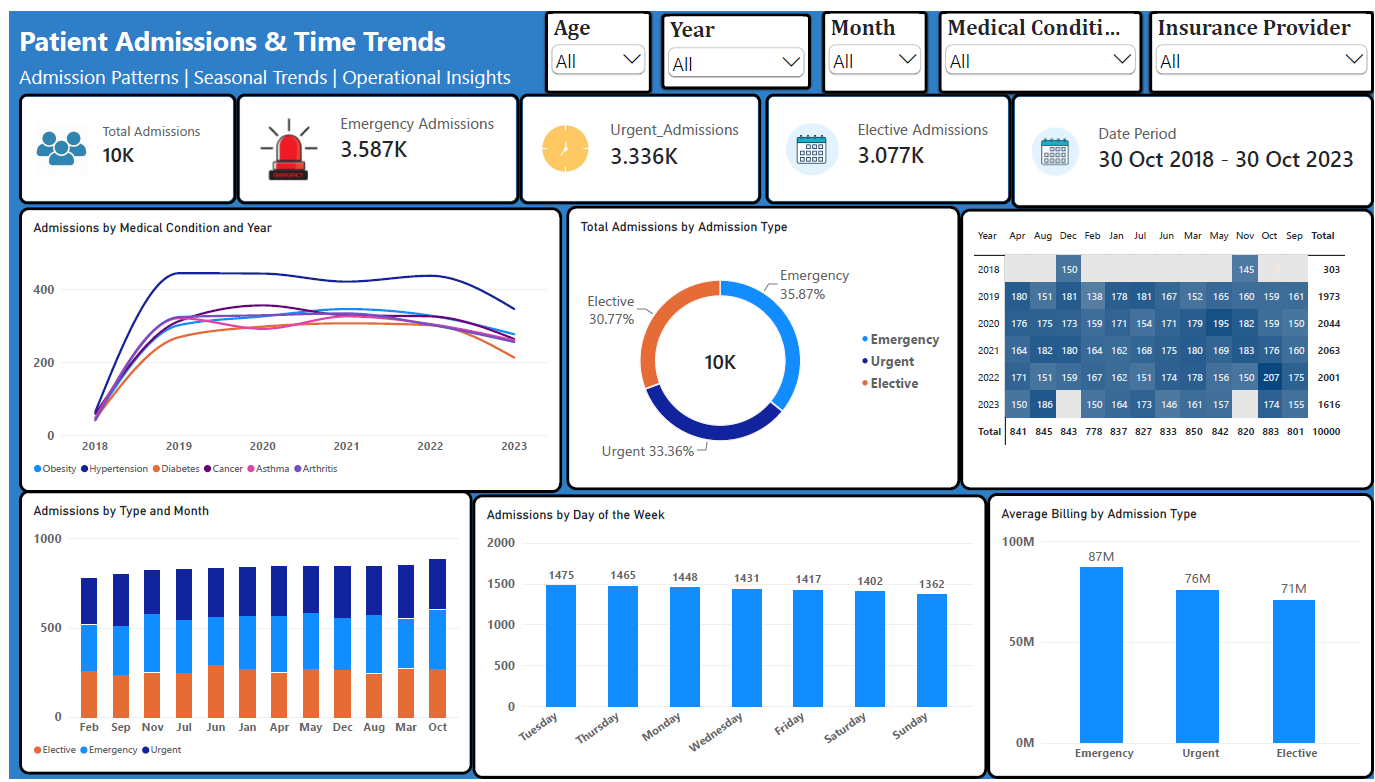

The page's visual inventory and layout, read from the dashboard file:
{"tool":"powerbi","page":{"name":"Patient Admission and Time Trend","canvas":[1920,1080],"ordinal":3},"visuals":[{"type":"cardVisual","fields":{"Data":["Healthcare_Data_v1__1.Total Admissions"]},"box":[14,116,306,156],"z":0},{"type":"cardVisual","fields":{"Data":["Healthcare_Data_v1__1.Urgent_Admissions"]},"box":[718,116,340,156],"z":1000},{"type":"cardVisual","fields":{"Data":["Healthcare_Data_v1__1.Emergency Admissions"]},"box":[320,116,398,156],"z":2000},{"type":"cardVisual","fields":{"Data":["Healthcare_Data_v1__1.Elective Admissions"]},"box":[1064,116,346,156],"z":3000},{"type":"columnChart","title":"Admissions by Type and Month","fields":{"Category":["DateTable.Month"],"Series":["Healthcare_Data_v1__1.Admission Type"],"Y":["Healthcare_Data_v1__1.Total Admissions"]},"box":[14,674,638,400],"z":5000},{"type":"donutChart","fields":{"Category":["Healthcare_Data_v1__1.Admission Type"],"Y":["Healthcare_Data_v1__1.Total Admissions"]},"box":[784,274,554,400],"z":6000},{"type":"clusteredColumnChart","title":"Admissions by Day of the Week","fields":{"Category":["DateTable.Day Name"],"Y":["Healthcare_Data_v1__1.Total Admissions"]},"box":[652,680,724,400],"z":7000},{"type":"pivotTable","fields":{"Columns":["DateTable.Month"],"Rows":["DateTable.Year"],"Values":["Healthcare_Data_v1__1.Total Admissions"]},"box":[1338,278,582,396],"z":8000},{"type":"lineChart","title":"Admissions by Medical Condition and Year","fields":{"Category":["DateTable.Year"],"Series":["Healthcare_Data_v1__1.Medical Condition"],"Y":["Healthcare_Data_v1__1.Total Admissions"]},"box":[14,276,764,402],"z":9000},{"type":"clusteredColumnChart","title":"Average Billing by Admission Type","fields":{"Category":["Healthcare_Data_v1__1.Admission Type"],"Y":["Sum(Healthcare_Data_v1__1. Billing Amount )"]},"box":[1376,678,544,402],"z":10000},{"type":"textbox","box":[14,16,612,58],"z":11000},{"type":"textbox","box":[14,74,704,64],"z":12000},{"type":"slicer","fields":{"Values":["Healthcare_Data_v1__1.Year"]},"box":[918,4,210,106],"z":13000},{"type":"slicer","fields":{"Values":["DateTable.Month"]},"box":[1144,0,148,116],"z":14000},{"type":"slicer","fields":{"Values":["Healthcare_Data_v1__1.Medical Condition"]},"box":[1308,0,286,116],"z":15000},{"type":"slicer","fields":{"Values":["Healthcare_Data_v1__1.Insurance Provider"]},"box":[1604,0,316,116],"z":16000},{"type":"cardVisual","fields":{"Data":["DateTable.Date Period"]},"box":[1410,116,510,162],"z":18000},{"type":"slicer","fields":{"Values":["Healthcare_Data_v1__1.Age Classification"]},"box":[754,0,150,116],"z":18001}]}

Visuals, with their boxes in screenshot pixels (x1, y1, x2, y2), scaled from the page's 1920x1080 canvas onto the 1375x782 screenshot:
cardVisual - Healthcare_Data_v1__1.Total Admissions: bbox(10, 84, 229, 197)
cardVisual - Healthcare_Data_v1__1.Urgent_Admissions: bbox(514, 84, 758, 197)
cardVisual - Healthcare_Data_v1__1.Emergency Admissions: bbox(229, 84, 514, 197)
cardVisual - Healthcare_Data_v1__1.Elective Admissions: bbox(762, 84, 1010, 197)
"Admissions by Type and Month" columnChart: bbox(10, 488, 467, 778)
donutChart - Healthcare_Data_v1__1.Admission Type x Healthcare_Data_v1__1.Total Admissions: bbox(561, 198, 958, 488)
"Admissions by Day of the Week" clusteredColumnChart: bbox(467, 492, 985, 781)
pivotTable - DateTable.Month x DateTable.Year: bbox(958, 201, 1374, 488)
"Admissions by Medical Condition and Year" lineChart: bbox(10, 200, 557, 491)
"Average Billing by Admission Type" clusteredColumnChart: bbox(985, 491, 1374, 781)
textbox: bbox(10, 12, 448, 54)
textbox: bbox(10, 54, 514, 100)
slicer - Healthcare_Data_v1__1.Year: bbox(657, 3, 808, 80)
slicer - DateTable.Month: bbox(819, 0, 925, 84)
slicer - Healthcare_Data_v1__1.Medical Condition: bbox(937, 0, 1142, 84)
slicer - Healthcare_Data_v1__1.Insurance Provider: bbox(1149, 0, 1374, 84)
cardVisual - DateTable.Date Period: bbox(1010, 84, 1374, 201)
slicer - Healthcare_Data_v1__1.Age Classification: bbox(540, 0, 647, 84)
